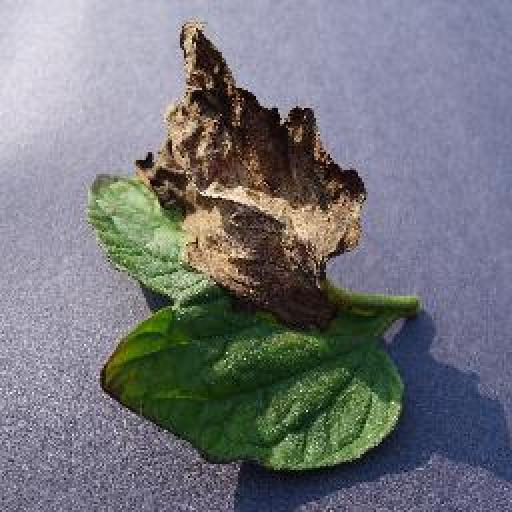Late Blight: (89, 16, 407, 469)
